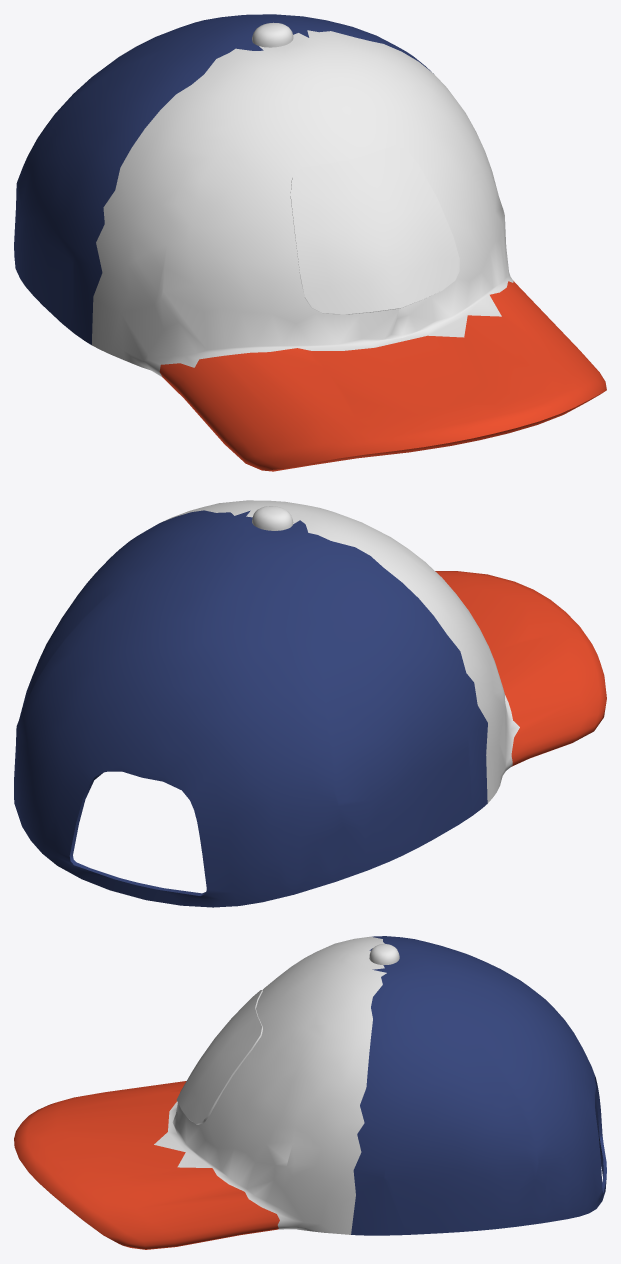
Rendered from headwear-hat-2-1f95c3b7.glb.
3 views of the same model, one above another, from view 1: azimuth 30°, elevation 25°; view 2: azimuth 150°, elevation 25°; view 3: azimuth 270°, elevation 25° (orthographic). The views are drawn at different scales.
Parts seen in each view (by area): view 1: Hat 2.001; view 2: Hat 2.001; view 3: Hat 2.001.
Part boxes in pixels (x1,y1,x2,y2): Hat 2.001: [14, 14, 606, 471]; Hat 2.001: [14, 500, 606, 907]; Hat 2.001: [14, 936, 606, 1249].
Bounding box in the file's own units: 1.49 × 1.03 × 2.36.
